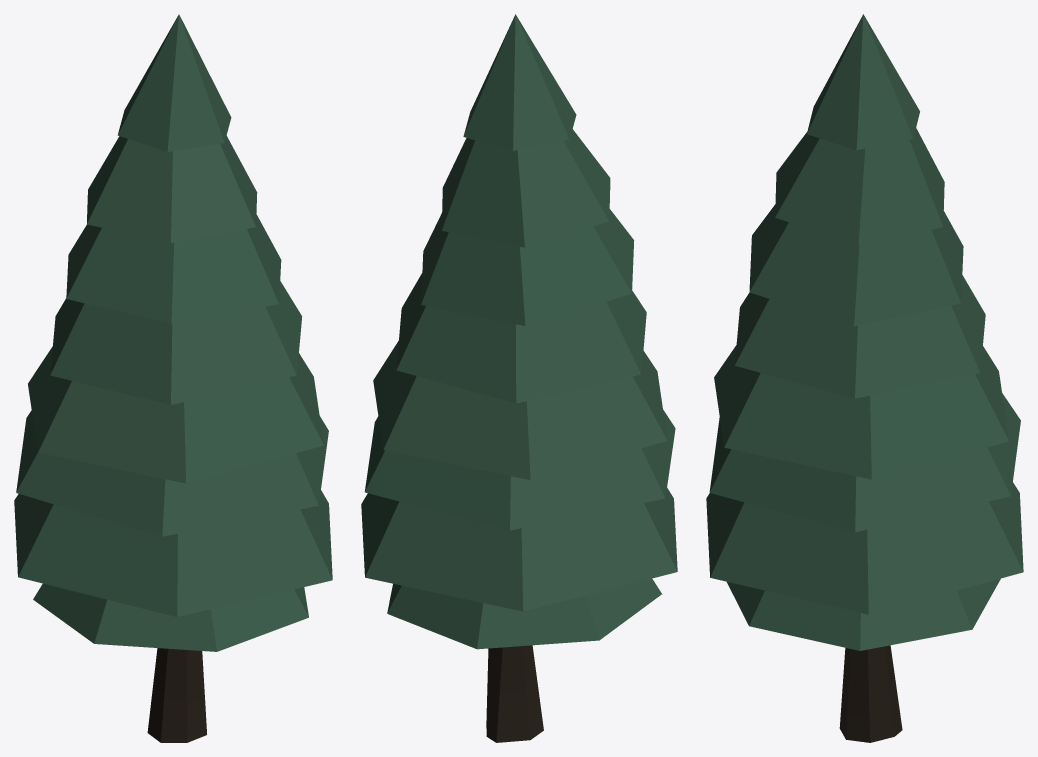
Rendered from Big Pine.fbx.
The picture shows the model from 3 angles, left to right: view 1: azimuth 30°, elevation 25°; view 2: azimuth 150°, elevation 25°; view 3: azimuth 270°, elevation 25°; orthographic projection.
Parts seen in each view (by area): view 1: Pine_Tree7_pCone16; view 2: Pine_Tree7_pCone16; view 3: Pine_Tree7_pCone16.
Boxes of the visible parts, box(x1,y1,x2,y2) form: Pine_Tree7_pCone16: box(14, 14, 332, 742); Pine_Tree7_pCone16: box(361, 14, 677, 742); Pine_Tree7_pCone16: box(706, 14, 1023, 742).
Bounding box in the file's own units: 4.13 × 9.02 × 3.62.
